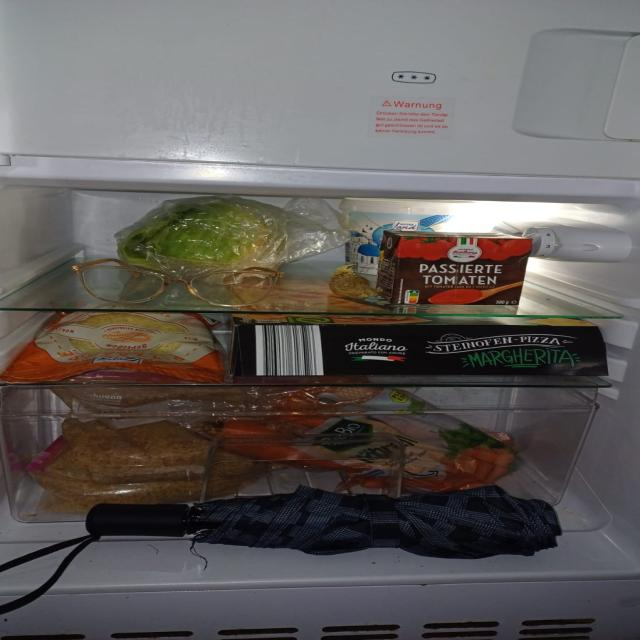Cheese: (21, 313, 218, 384)
Pizza: (237, 315, 620, 381)
Plastic bag: (27, 387, 234, 500)
Spectacular: (39, 257, 292, 315)
Tomato Puree: (374, 223, 540, 310)
Umbrella: (45, 489, 564, 561)
Yogurt: (333, 196, 497, 275)
cabbage: (110, 192, 318, 282)
carrots: (198, 385, 510, 484)
